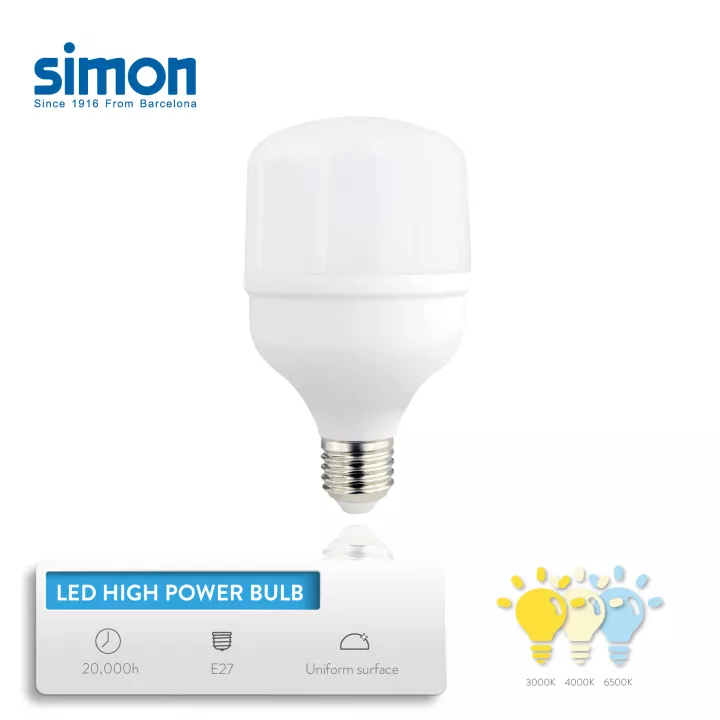Light_bulb: (236, 103, 476, 525)
